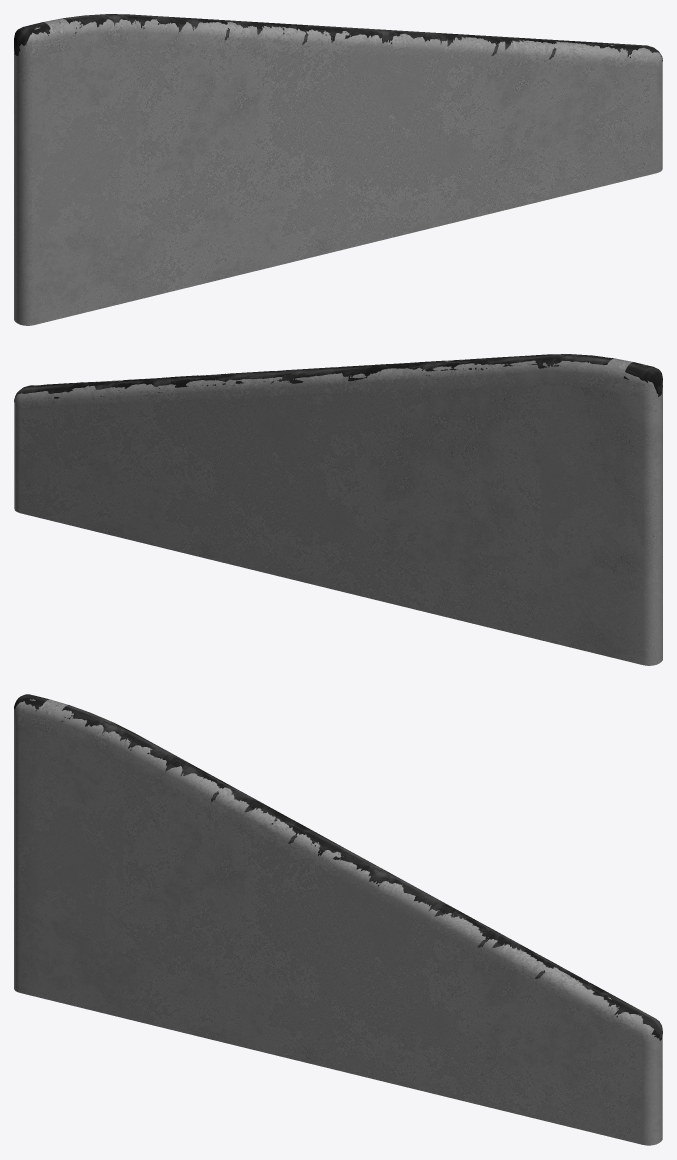
The model's file is stairBox2.fbx.
3 views of the same model, one above another, from view 1: azimuth 30°, elevation 25°; view 2: azimuth 150°, elevation 25°; view 3: azimuth 330°, elevation 25° (orthographic).
Parts seen in each view (by area): view 1: stairBox.002base, stairBox.002colider, stairBox.002decalc; view 2: stairBox.002base, stairBox.002colider, stairBox.002decalc; view 3: stairBox.002base, stairBox.002colider, stairBox.002decalc.
Part boxes in pixels (x1,y1,x2,y2): stairBox.002base: [14, 45, 662, 325]; stairBox.002colider: [14, 18, 662, 68]; stairBox.002decalc: [14, 14, 662, 61]; stairBox.002base: [14, 385, 662, 665]; stairBox.002colider: [14, 355, 662, 408]; stairBox.002decalc: [14, 354, 662, 401]; stairBox.002base: [14, 722, 662, 1145]; stairBox.002colider: [14, 699, 662, 1042]; stairBox.002decalc: [14, 694, 662, 1040].
Size of the model in its own units: 528 by 229 by 19.63.
